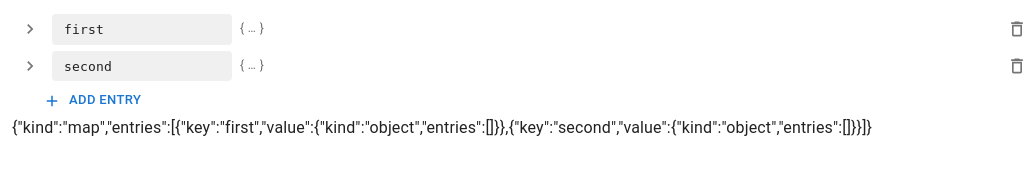
it: ValueEditor map accordions › keeps accordion state aligned after deleting an earlier entry
Click the button named "second": (30, 66) [16,52,44,80]
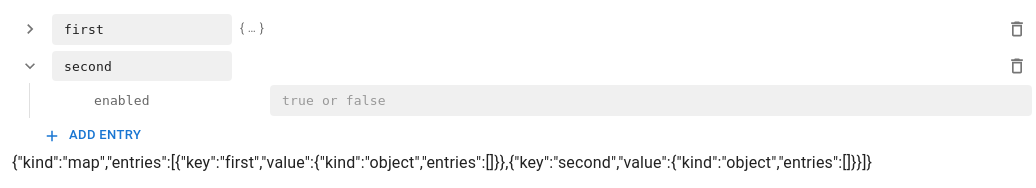
Click the 2nd button named "Remove entry": (1017, 66) [1002,51,1032,81]
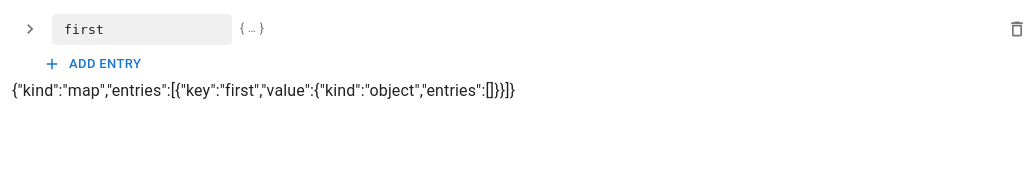
Now the text "second" is gone
